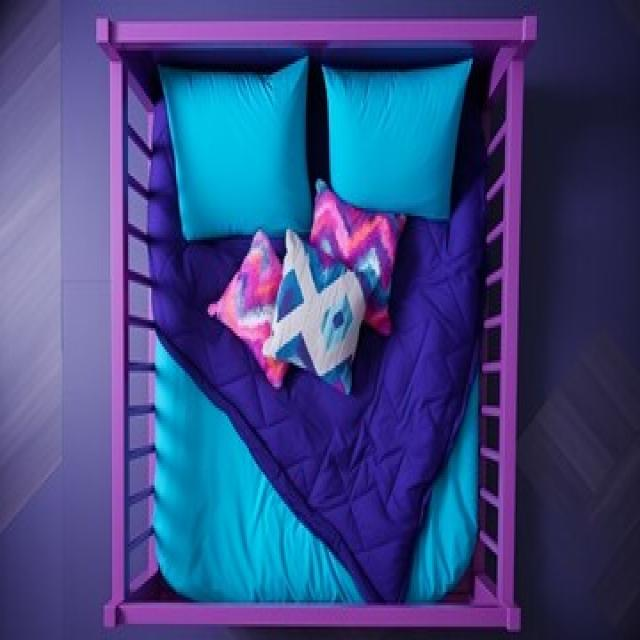crib: (94, 11, 537, 632)
